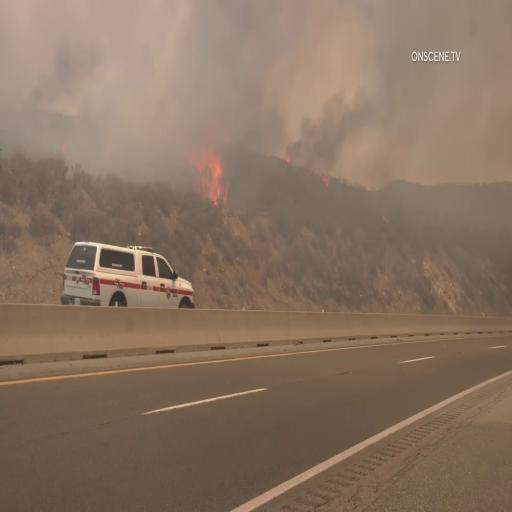fire: (196, 147, 231, 215)
